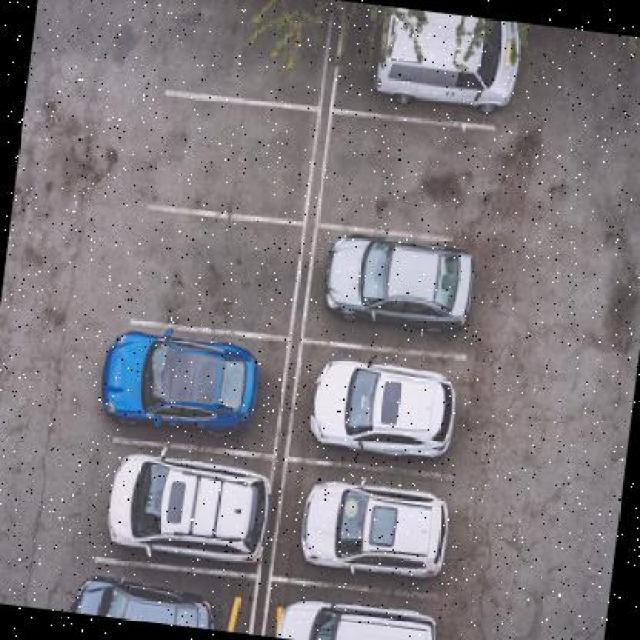Car: (293, 335, 487, 484), (93, 443, 281, 572), (287, 471, 469, 594), (96, 312, 269, 436), (318, 230, 495, 346), (375, 9, 535, 124), (67, 563, 226, 632), (270, 582, 451, 640)
Empty: (323, 115, 504, 246), (153, 92, 315, 215), (147, 220, 303, 331), (170, 1, 327, 101)
